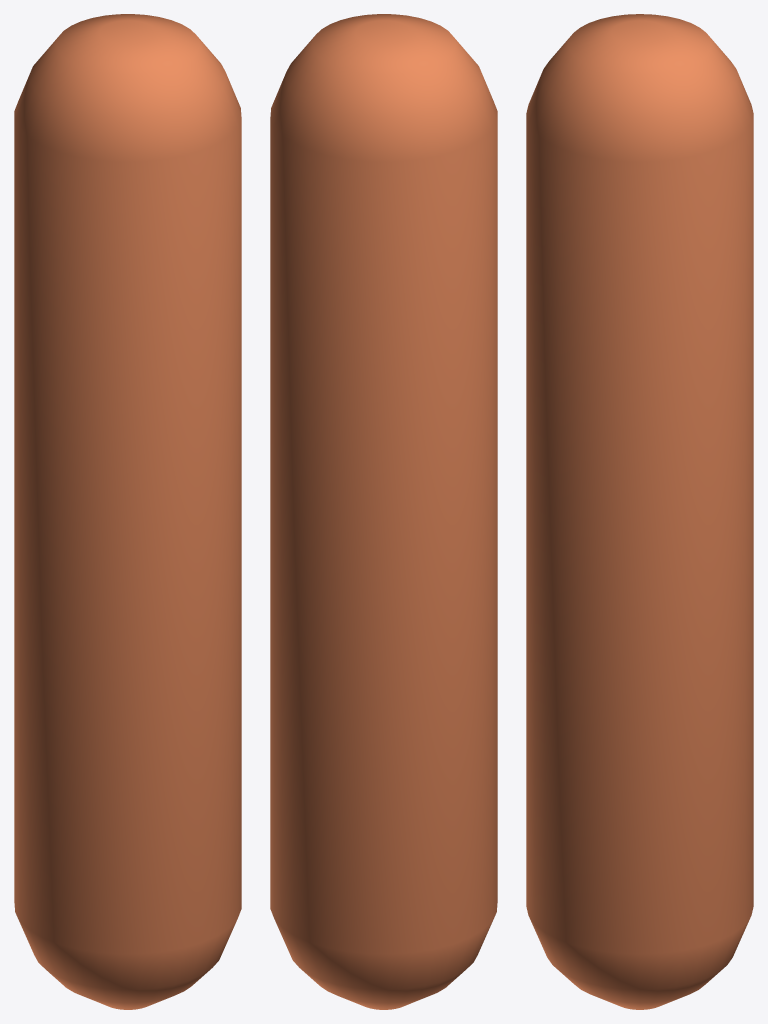
Rendered from 木の棒.fbx.
3 views of the same model, side by side, from view 1: azimuth 30°, elevation 25°; view 2: azimuth 150°, elevation 25°; view 3: azimuth 270°, elevation 25° (orthographic).
Visible parts, largest first — view 1: 円柱; view 2: 円柱; view 3: 円柱.
Boxes of the visible parts, box(x1,y1,x2,y2) form: 円柱: box(14, 14, 241, 1009); 円柱: box(270, 14, 497, 1009); 円柱: box(526, 14, 753, 1009).
Bounding box in the file's own units: 200 × 937 × 200.
